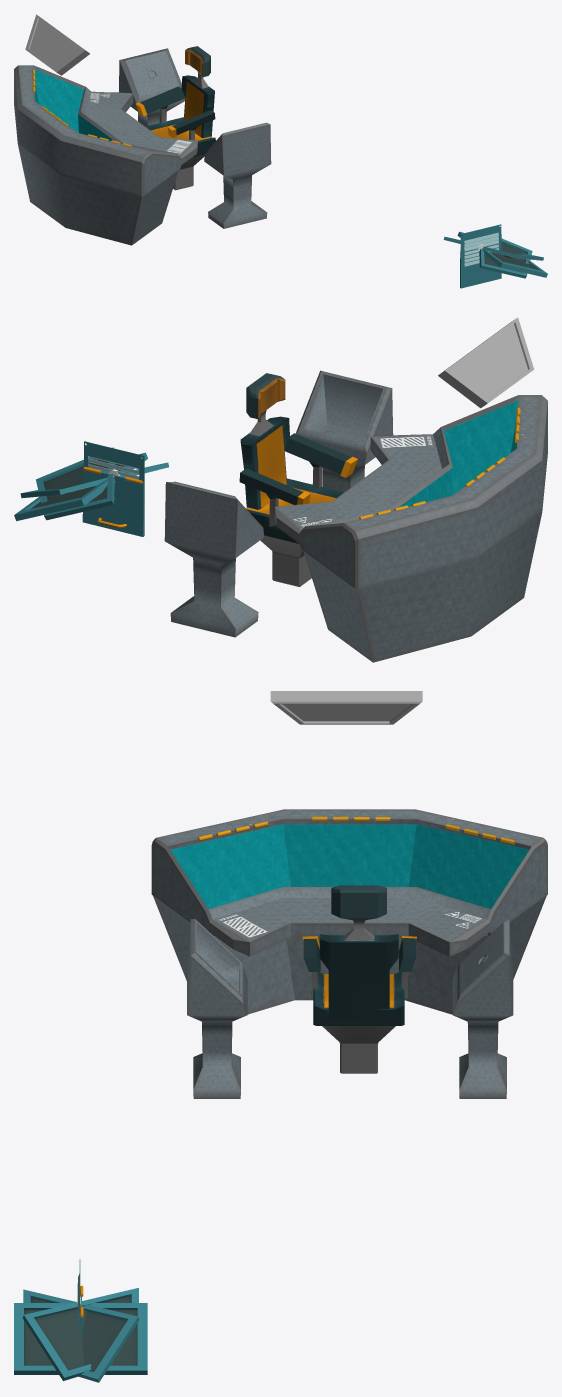
The model's file is EXP_CONSOLE_7.fbx.
The picture shows the model from 3 angles, top to bottom: view 1: azimuth 30°, elevation 25°; view 2: azimuth 150°, elevation 25°; view 3: azimuth 270°, elevation 25°; orthographic projection. The views are drawn at different scales.
Visible parts, largest first — view 1: Console2, Left_Console_Panel, Chair2, Right_Console_Panel, pCube6, panel, Hatch, Left_Console_Door, polySurface51, polySurface50; view 2: Console2, Chair2, Right_Console_Panel, Left_Console_Panel, pCube6, Hatch, polySurface50, panel, polySurface51, Left_Console_Door; view 3: Console2, Chair2, Left_Console_Panel, Right_Console_Panel, pCube6, polySurface51, polySurface50, Left_Console_Door.
Boxes of the visible parts, x1,y1,x2,y2 form: Console2: [14, 65, 197, 245]; Left_Console_Panel: [204, 122, 271, 228]; Chair2: [135, 46, 215, 190]; Right_Console_Panel: [119, 48, 185, 126]; pCube6: [25, 14, 89, 75]; panel: [460, 224, 501, 270]; Hatch: [460, 242, 501, 288]; Left_Console_Door: [479, 238, 532, 278]; polySurface51: [457, 231, 547, 277]; polySurface50: [443, 236, 543, 260]; Console2: [275, 395, 547, 662]; Chair2: [239, 373, 357, 586]; Right_Console_Panel: [164, 481, 264, 637]; Left_Console_Panel: [295, 370, 393, 492]; pCube6: [438, 317, 534, 408]; Hatch: [82, 467, 144, 536]; polySurface50: [36, 447, 115, 520]; panel: [84, 441, 144, 509]; polySurface51: [14, 452, 147, 521]; Left_Console_Door: [20, 462, 168, 498]; Console2: [151, 809, 547, 1014]; Chair2: [302, 885, 416, 1073]; Left_Console_Panel: [187, 919, 247, 1098]; Right_Console_Panel: [452, 919, 513, 1098]; pCube6: [270, 691, 422, 724]; polySurface51: [14, 1303, 147, 1374]; polySurface50: [23, 1288, 138, 1380]; Left_Console_Door: [23, 1289, 139, 1382].
Size of the model in its own units: 4894 by 3055 by 3558.
